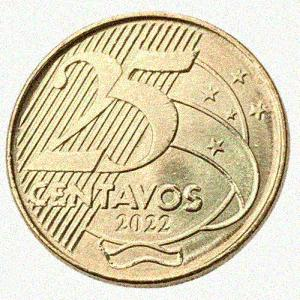25 cent: (5, 10, 290, 288)
